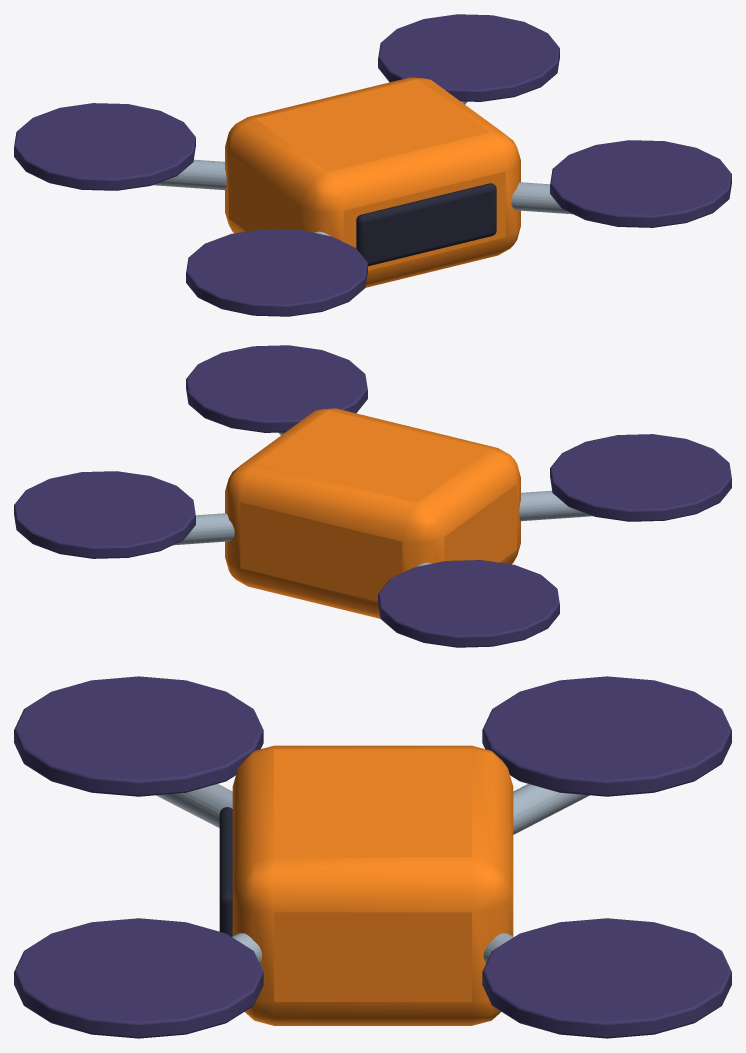
File: drone.glb
3 renders of one model, top to bottom at view 1: azimuth 30°, elevation 25°; view 2: azimuth 150°, elevation 25°; view 3: azimuth 270°, elevation 25°, orthographic. The views are drawn at different scales.
Parts seen in each view (by area): view 1: Batch_drone_CITY / purple, Batch_drone_CITY / orange, Batch_drone_CITY / charcoal, Batch_drone_CITY / metal; view 2: Batch_drone_CITY / purple, Batch_drone_CITY / orange, Batch_drone_CITY / metal; view 3: Batch_drone_CITY / purple, Batch_drone_CITY / orange, Batch_drone_CITY / metal, Batch_drone_CITY / charcoal.
Boxes of the visible parts, <box> form: Batch_drone_CITY / purple: <box>14,14,731,316</box>; Batch_drone_CITY / orange: <box>225,77,520,287</box>; Batch_drone_CITY / charcoal: <box>356,183,496,266</box>; Batch_drone_CITY / metal: <box>153,101,572,236</box>; Batch_drone_CITY / purple: <box>14,345,731,647</box>; Batch_drone_CITY / orange: <box>225,408,520,618</box>; Batch_drone_CITY / metal: <box>173,432,592,567</box>; Batch_drone_CITY / purple: <box>14,676,731,1038</box>; Batch_drone_CITY / orange: <box>232,745,513,1025</box>; Batch_drone_CITY / metal: <box>156,784,589,963</box>; Batch_drone_CITY / charcoal: <box>219,807,232,936</box>.
Size of the model in its own units: 1.58 by 0.35 by 1.38.
